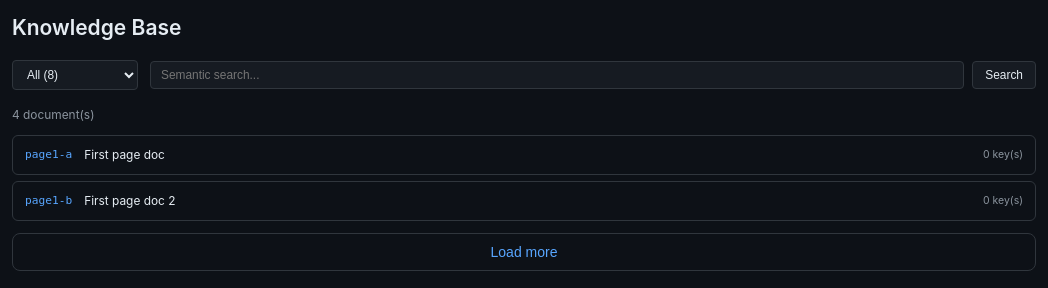
Scenario: KnowledgeBasePage › load more button appends next page
Click the button "Load more" at coordinates (524, 252), box [12, 233, 1036, 271]
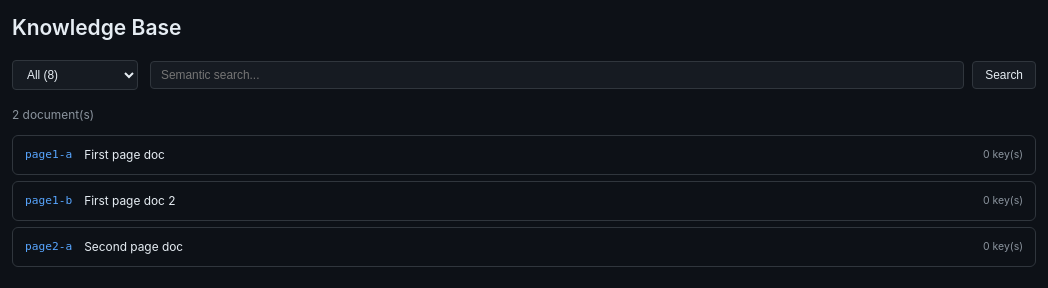
Now the button "Load more" is gone
